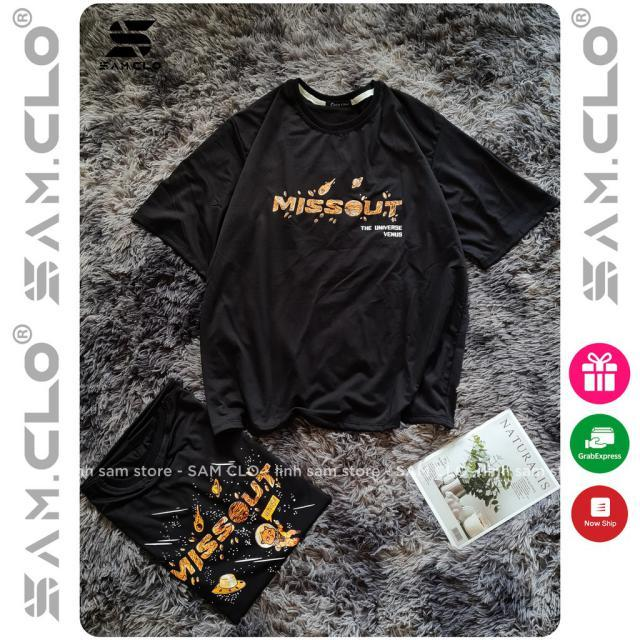Shirt: (132, 73, 557, 430)
